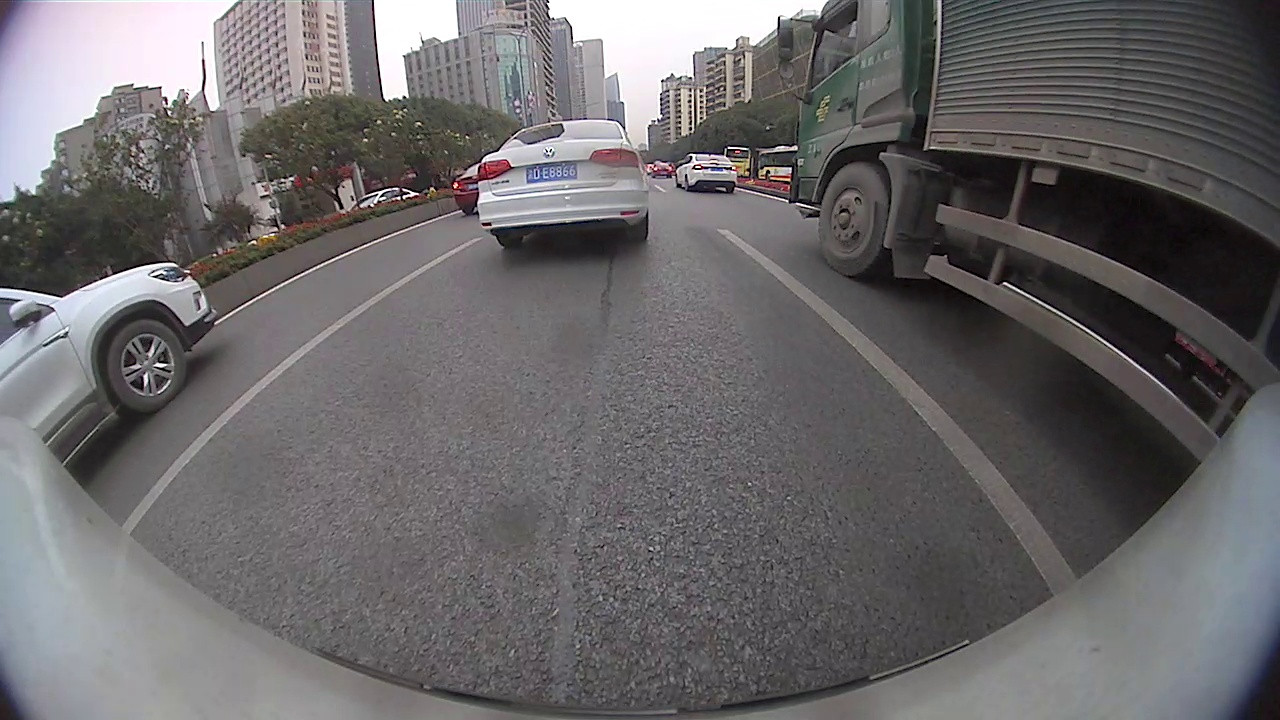bus: (757, 142, 803, 182), (724, 143, 751, 178)
car: (1, 261, 220, 469), (478, 116, 652, 251), (674, 152, 740, 194), (453, 162, 485, 214), (353, 185, 415, 210), (649, 159, 674, 179)
front: (816, 159, 890, 278), (105, 318, 187, 413)
truck: (788, 2, 1278, 464)
